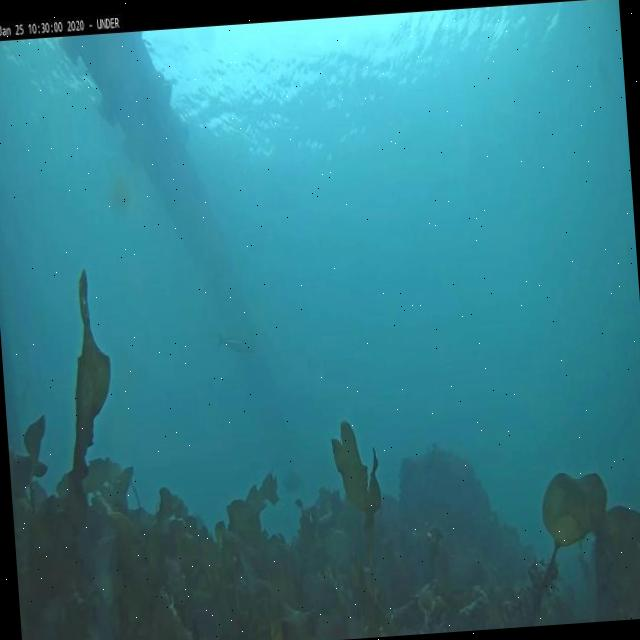fish: (214, 331, 258, 364), (279, 469, 304, 496)
